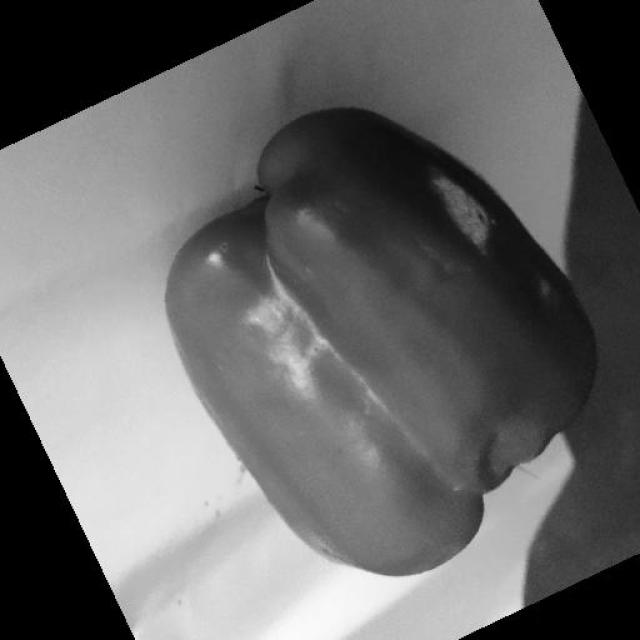Stale_Capsicum: (353, 138, 619, 416)
